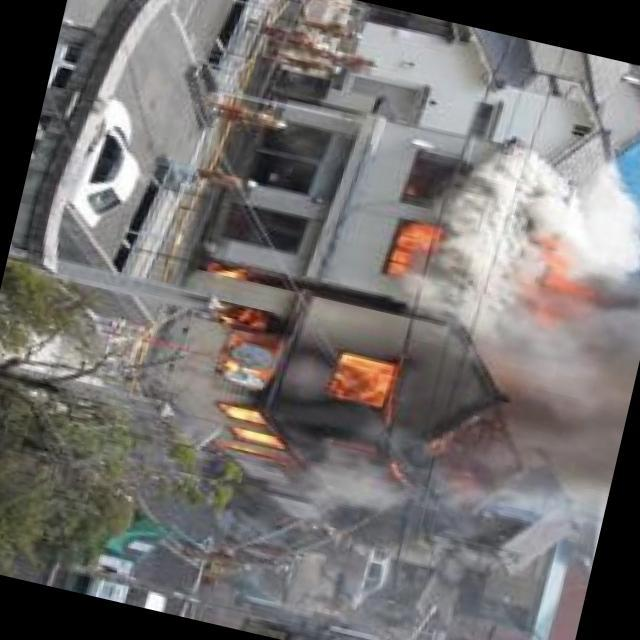Fire: (183, 302, 436, 494), (513, 238, 616, 350), (378, 214, 440, 291)
